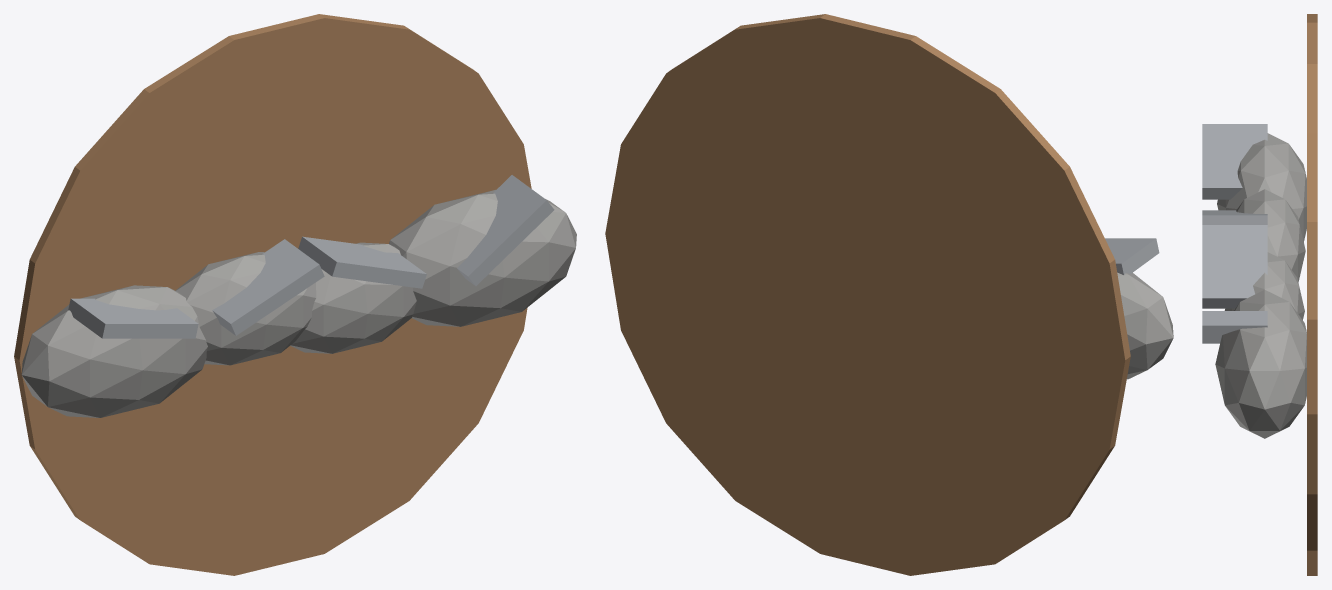
The model's file is 03_ambient_object_cluster.glb.
The picture shows the model from 3 angles, left to right: view 1: azimuth 30°, elevation 25°; view 2: azimuth 150°, elevation 25°; view 3: azimuth 270°, elevation 25°; orthographic projection. The views are drawn at different scales.
Visible parts, largest first — view 1: scatter_base, scrap_rock_0, scrap_rock_3, scrap_rock_1, scrap_rock_2, scrap_plate_1, scrap_plate_3, scrap_plate_2, scrap_plate_0; view 2: scatter_base, scrap_rock_0, scrap_plate_0; view 3: scrap_rock_3, scatter_base, scrap_plate_2, scrap_rock_0, scrap_plate_0, scrap_rock_1, scrap_rock_2, scrap_plate_3, scrap_plate_1.
Part boxes in pixels (x1,y1,x2,y2): scatter_base: (14,14,531,575); scrap_rock_0: (21,285,207,417); scrap_rock_3: (389,189,576,326); scrap_rock_1: (175,252,316,365); scrap_rock_2: (290,242,416,353); scrap_plate_1: (212,239,324,335); scrap_plate_3: (457,175,554,285); scrap_plate_2: (298,236,426,288); scrap_plate_0: (68,298,198,338); scatter_base: (605,14,1130,575); scrap_rock_0: (1117,272,1173,379); scrap_plate_0: (1105,238,1159,274); scrap_rock_3: (1215,290,1306,438); scatter_base: (1307,14,1317,575); scrap_plate_2: (1202,225,1267,308); scrap_rock_0: (1217,133,1306,241); scrap_plate_0: (1202,124,1267,199); scrap_rock_1: (1236,189,1305,282); scrap_rock_2: (1224,252,1304,319); scrap_plate_3: (1202,311,1267,343); scrap_plate_1: (1202,210,1267,224).
Size of the model in its own units: 2.03 by 1.87 by 0.3875.
